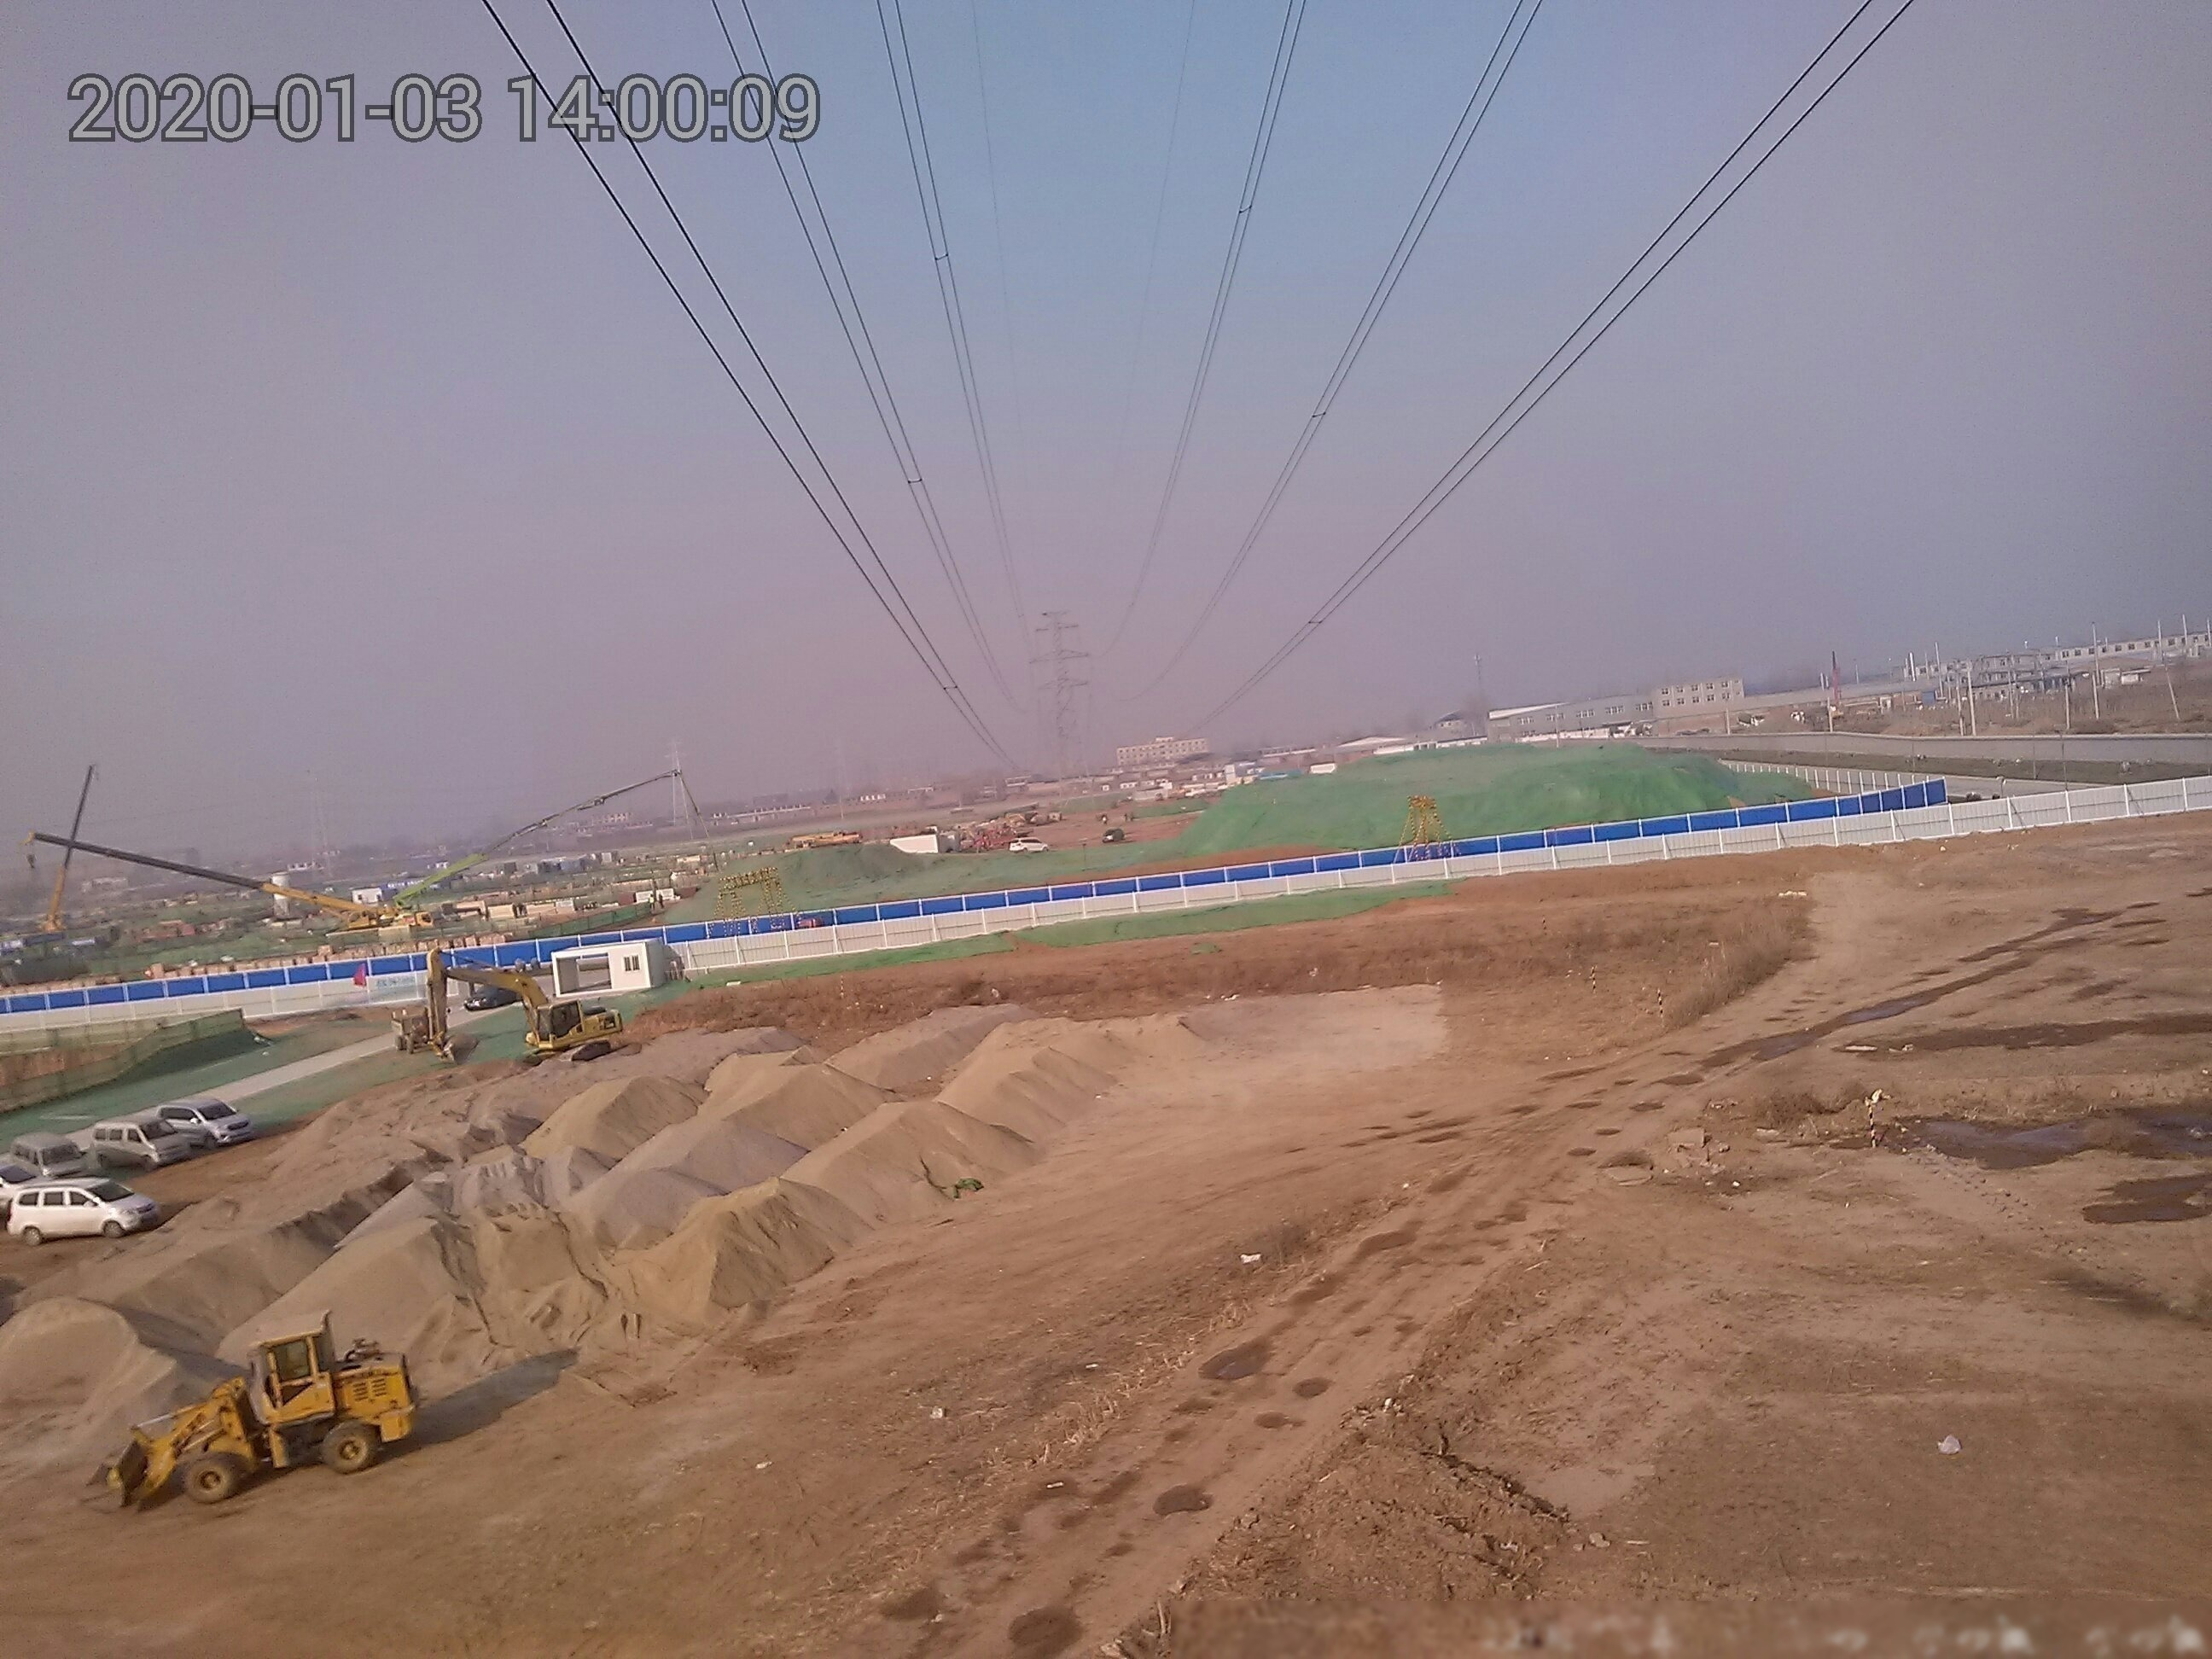gouche: (106, 1340, 421, 1507)
tadiao: (21, 802, 402, 962)
